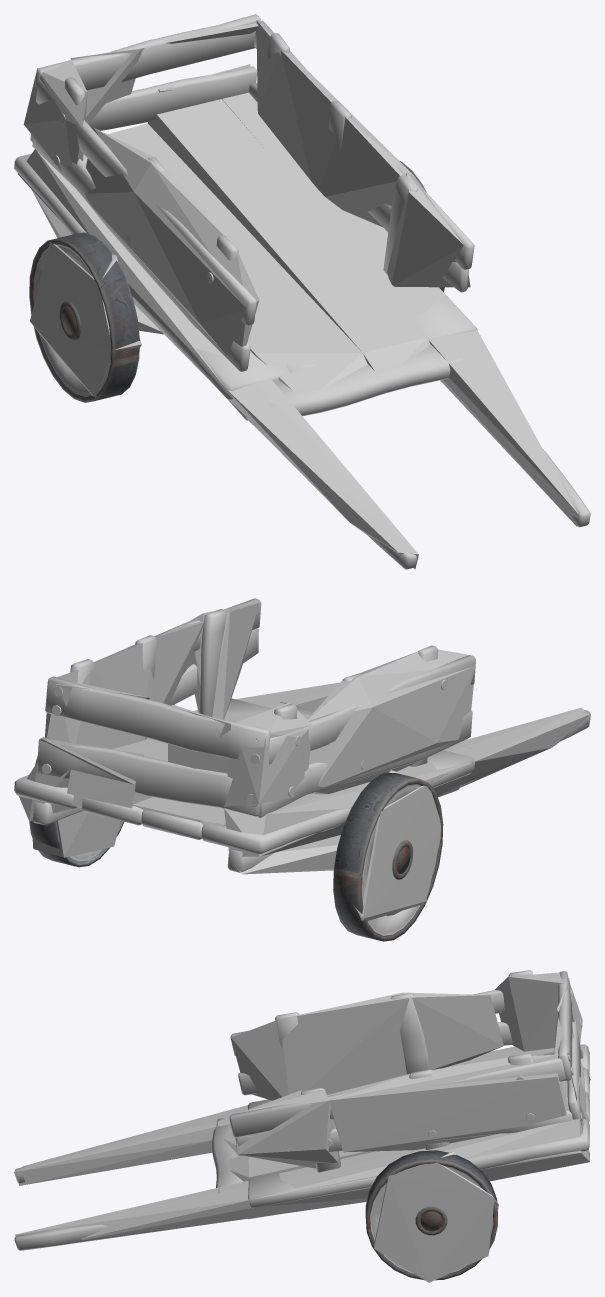
The model's file is SM_Cart.fbx.
The picture shows the model from 3 angles, top to bottom: view 1: azimuth 30°, elevation 25°; view 2: azimuth 150°, elevation 25°; view 3: azimuth 270°, elevation 25°; orthographic projection. The views are drawn at different scales.
Visible parts, largest first — view 1: SM_Cart_ConvexHulls, SM_Cart; view 2: SM_Cart_ConvexHulls, SM_Cart; view 3: SM_Cart_ConvexHulls, SM_Cart.
Boxes of the visible parts, x1,y1,x2,y2 form: SM_Cart_ConvexHulls: (17, 17, 578, 569); SM_Cart: (14, 14, 590, 569); SM_Cart_ConvexHulls: (19, 603, 589, 920); SM_Cart: (14, 598, 590, 941); SM_Cart_ConvexHulls: (14, 972, 590, 1282); SM_Cart: (14, 970, 589, 1280).
Bounding box in the file's own units: 274 × 511 × 201.
